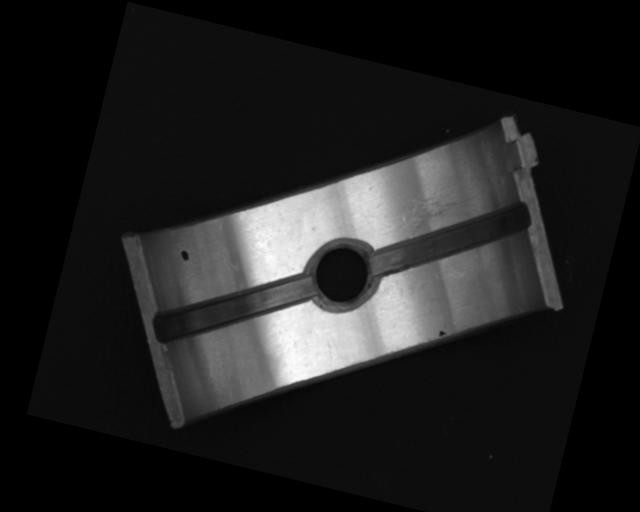blot: (177, 248, 191, 263), (436, 328, 448, 339)
gap: (367, 171, 534, 310), (154, 244, 315, 373)
hole: (301, 233, 382, 318)
scratch: (398, 179, 479, 254)
